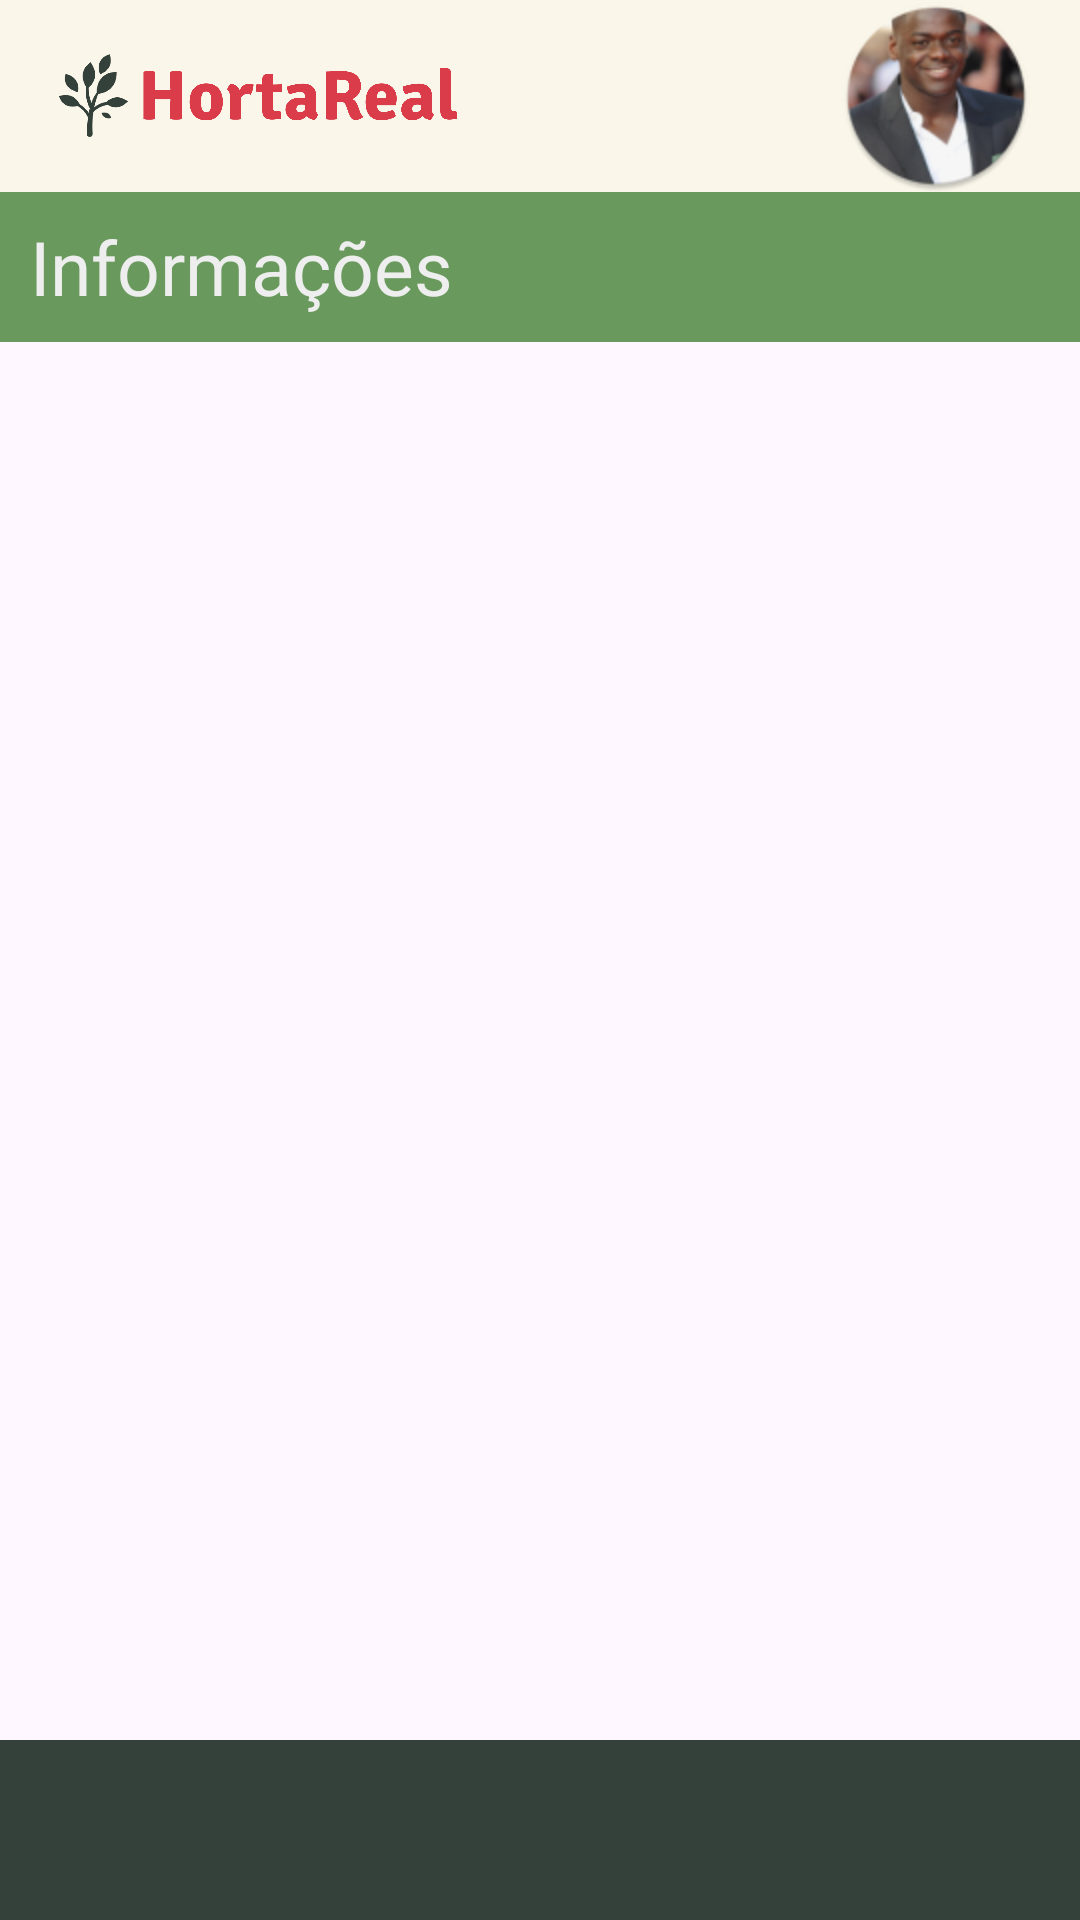

Where icons sit on this 1080px×1920px app screen, as (x1, y1, x2, y2):
perfil round: (847, 7, 1026, 189)
